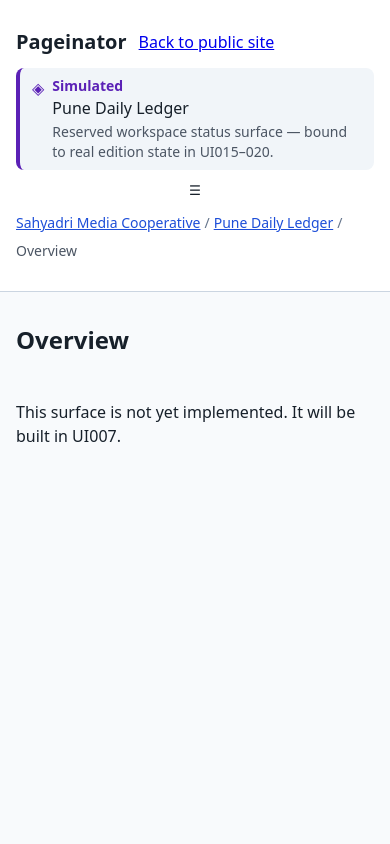
Test case: Phone-width nav disclosure exists (§10.1) — structural check › toggling it changes its accessible name and aria-expanded state
What coordinates should you click on to do the following:
click the button named "Show Publication navigation"
I would click on:
 (195, 190)
Its box is x1=16 y1=178 x2=374 y2=203.
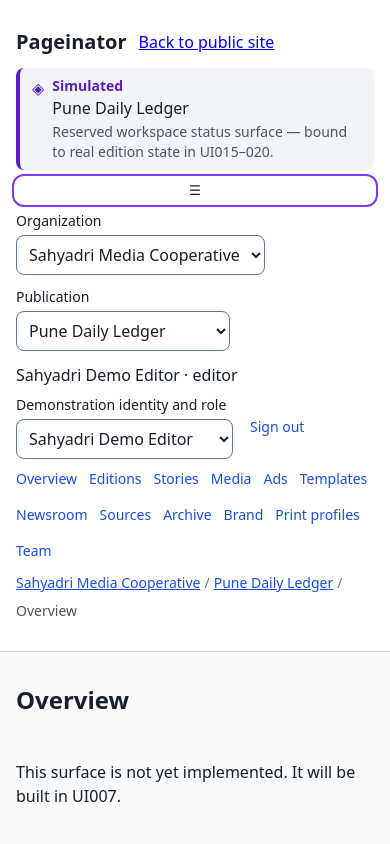
Now the button named "Hide Publication navigation" is expanded, box x1=16 y1=178 x2=374 y2=203
